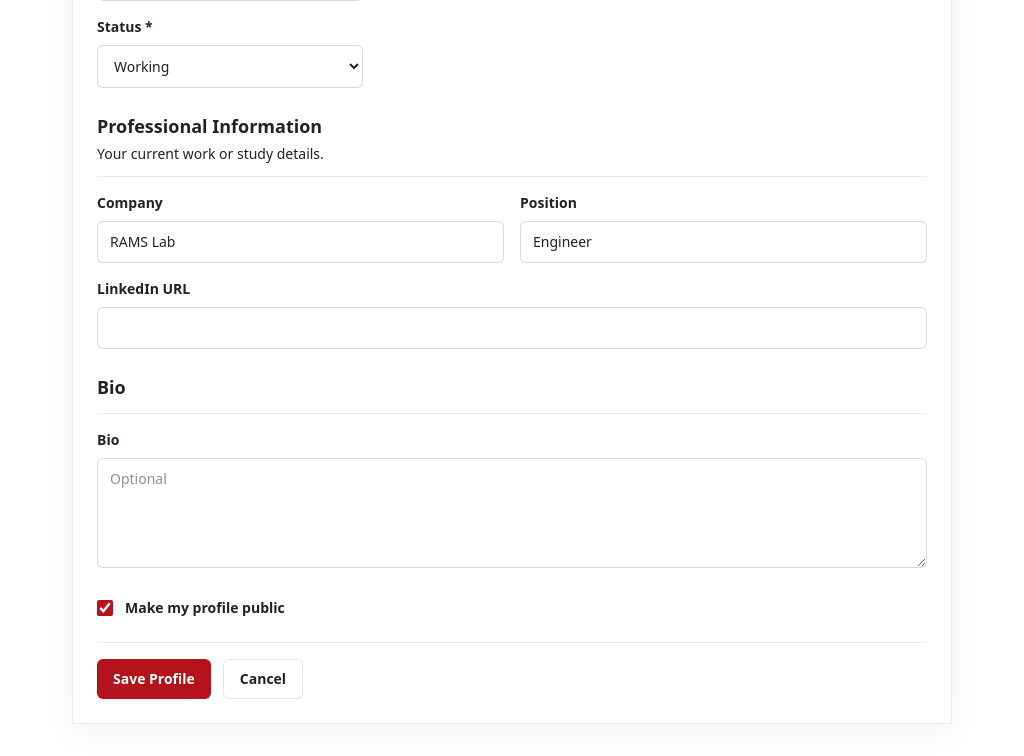
AlumniProfile – save notifications › shows the registration validation error as a dismissible red toast: Cannot save profile: photo is required to complete your alumni registration.
(page scrolled)
Click the button "Save Profile".
click(154, 679)  # box x1=97 y1=659 x2=211 y2=699
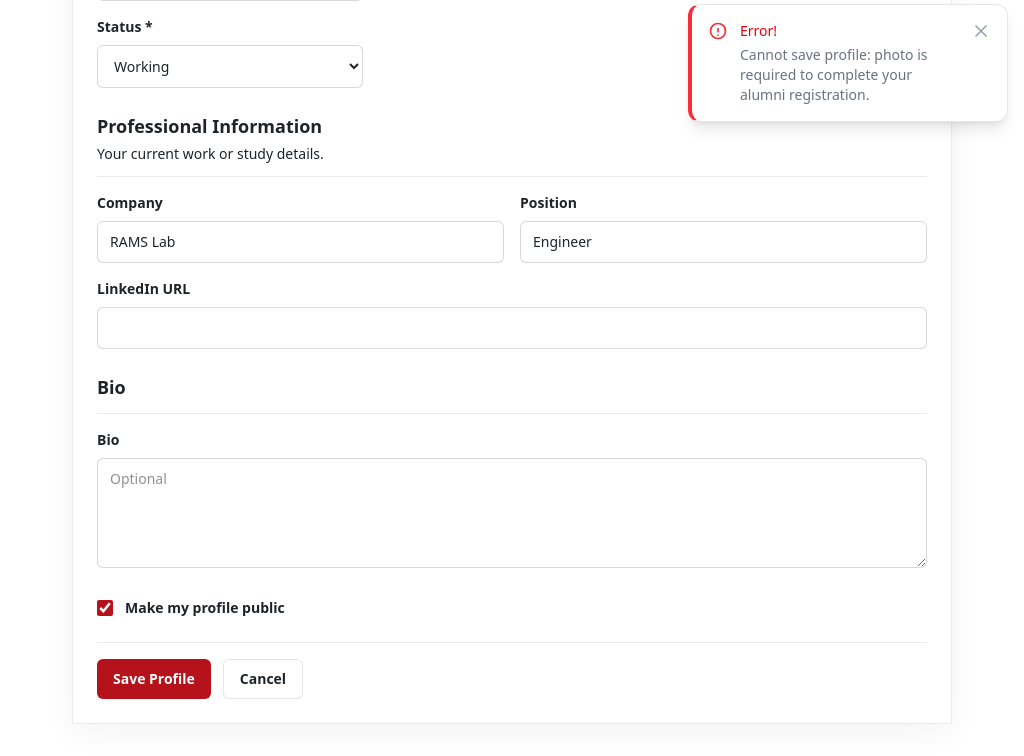
Expected: the message shows "Cannot save profile: photo is required to complete your alumni registration.", x1=740 y1=45 x2=928 y2=104
Expected: the message shows "Error!", x1=740 y1=21 x2=777 y2=40
Expected: the text "Cannot save profile: photo is required to complete your alumni registration." is shown once, x1=740 y1=45 x2=959 y2=105
Click the button named "dismiss error notification".
click(981, 31)  # box x1=971 y1=21 x2=991 y2=41
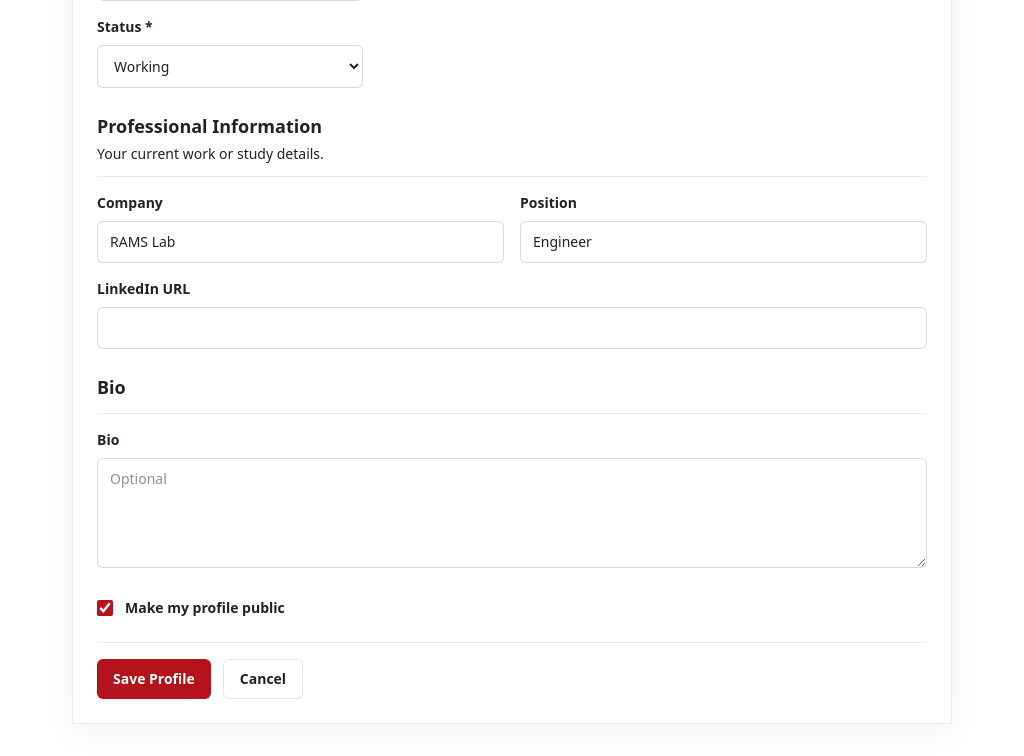
Expected: the text "Cannot save profile: photo is required to complete your alumni registration." is gone
